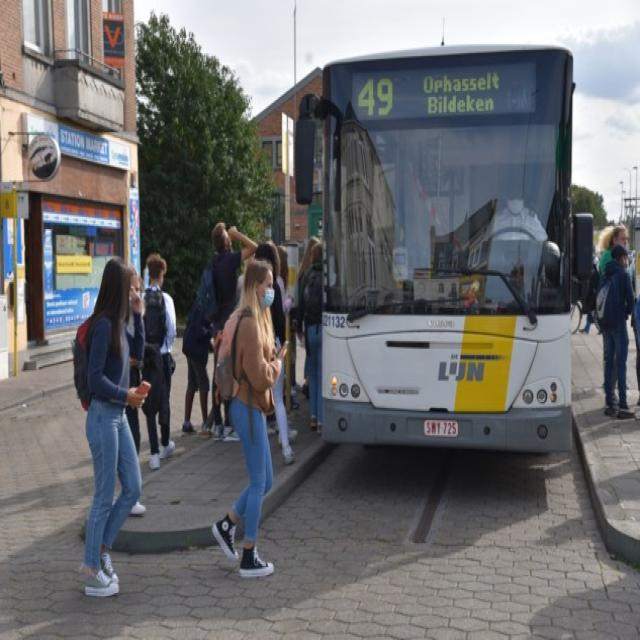bus-number: (356, 72, 396, 122)
